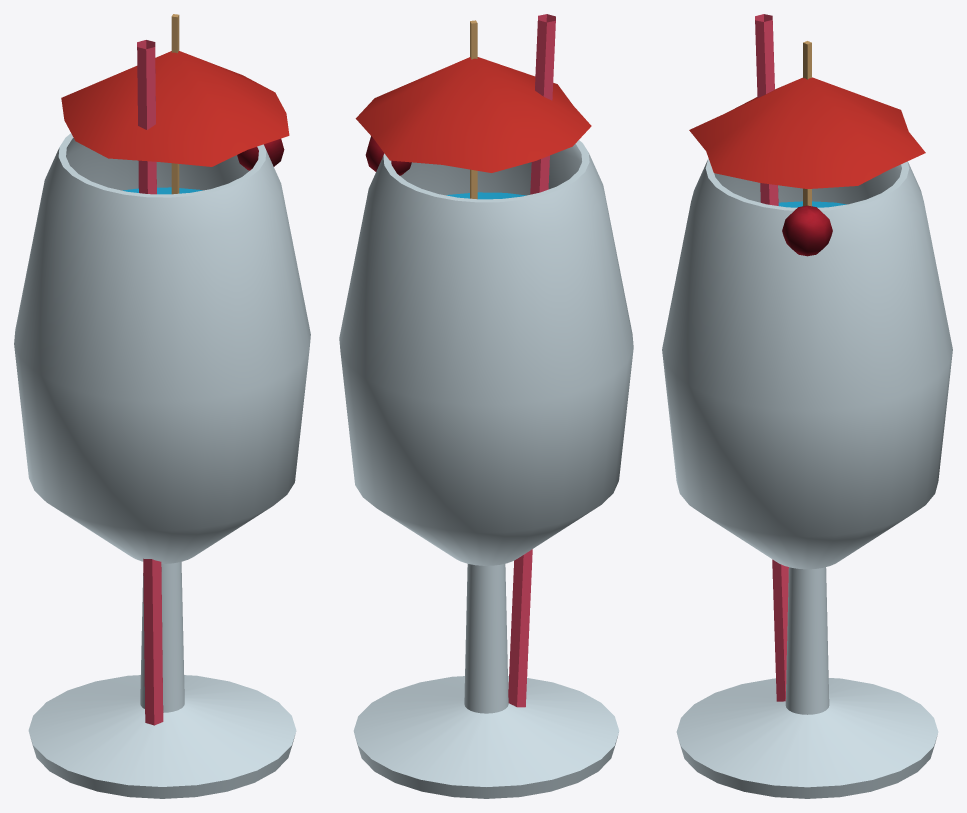
Rendered from cocktail_blue_lagoon_hurricane.glb.
The picture shows the model from 3 angles, left to right: view 1: azimuth 30°, elevation 25°; view 2: azimuth 150°, elevation 25°; view 3: azimuth 270°, elevation 25°; orthographic projection. The views are drawn at different scales.
Parts seen in each view (by area): view 1: cocktail_blue_lagoon_hurricane; view 2: cocktail_blue_lagoon_hurricane; view 3: cocktail_blue_lagoon_hurricane.
Boxes of the visible parts, box(x1,y1,x2,y2) form: cocktail_blue_lagoon_hurricane: box(14, 14, 310, 798); cocktail_blue_lagoon_hurricane: box(339, 14, 633, 798); cocktail_blue_lagoon_hurricane: box(662, 14, 952, 798).
Size of the model in its own units: 0.08 by 0.2151 by 0.08.
7 materials, 1 textured.
